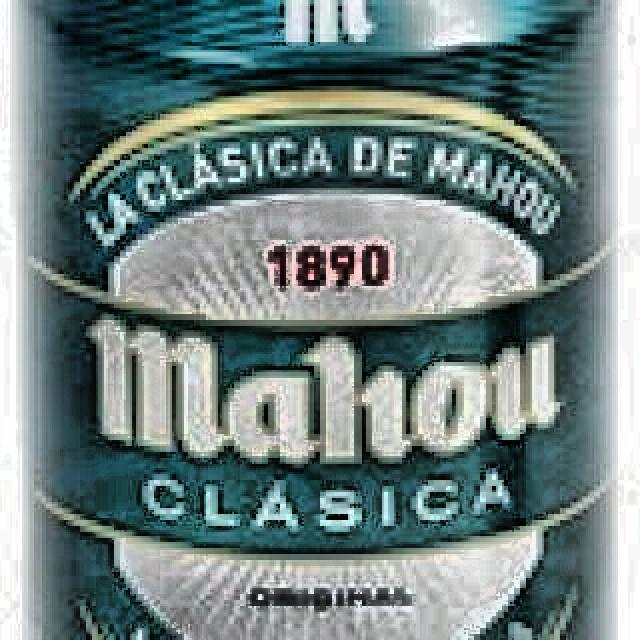metal: (10, 0, 619, 640)
